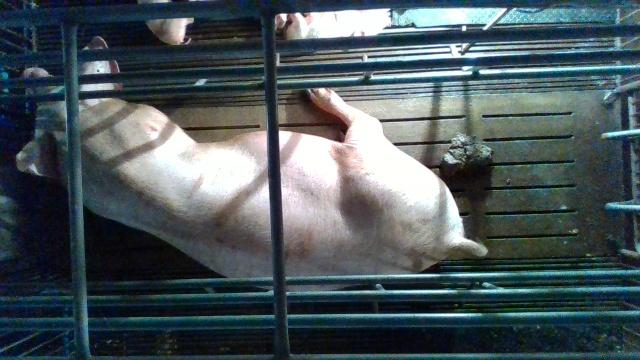piglet: (268, 2, 393, 46), (134, 1, 193, 46)
sow-sit: (14, 35, 490, 294)
